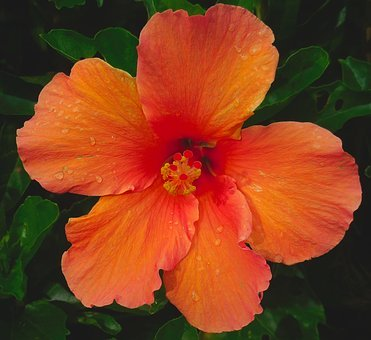Hibiscus: (12, 5, 366, 335)
